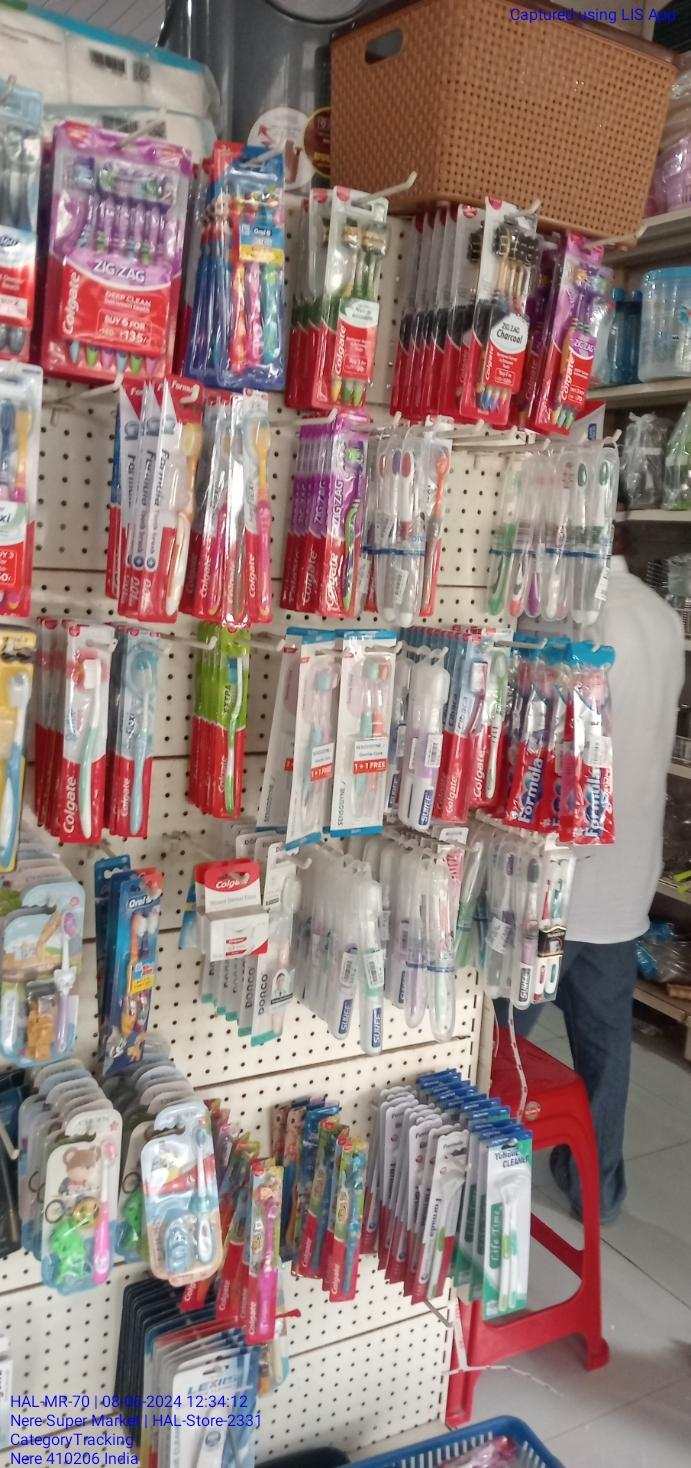7: (343, 631, 392, 836), (289, 646, 334, 845)
liquid soap: (476, 195, 529, 430)
